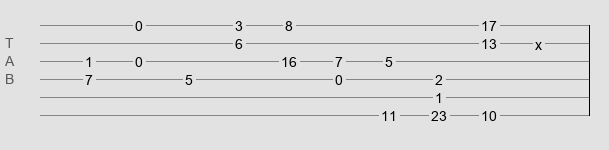0: (135, 54, 143, 64), (135, 18, 143, 28), (335, 72, 343, 82)
1: (85, 54, 93, 64), (435, 90, 443, 100)
10: (481, 108, 497, 118)
11: (381, 108, 397, 118)
13: (481, 36, 497, 46)
16: (281, 54, 297, 64)
17: (481, 18, 497, 28)
2: (435, 72, 443, 82)
23: (431, 108, 447, 118)
3: (235, 18, 243, 28)
5: (185, 72, 193, 82), (385, 54, 393, 64)
6: (235, 36, 243, 46)
7: (85, 72, 93, 82), (335, 54, 343, 64)
8: (285, 18, 293, 28)
x: (535, 37, 542, 45)
